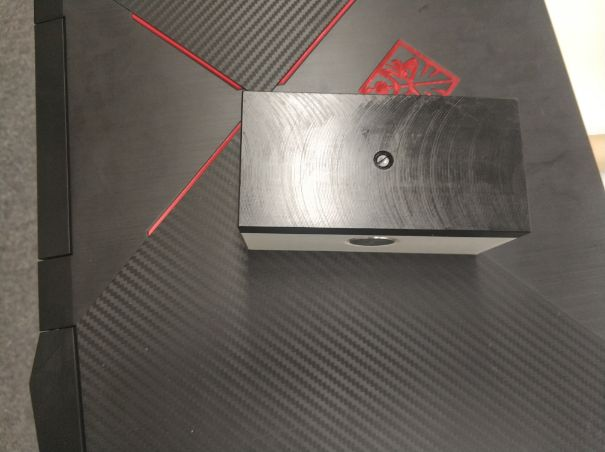black+white+silver: (236, 85, 537, 259)
